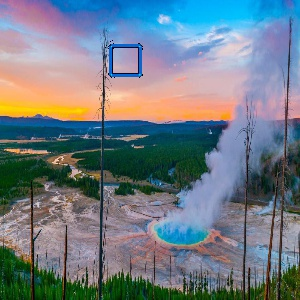square: (106, 42, 144, 79)
